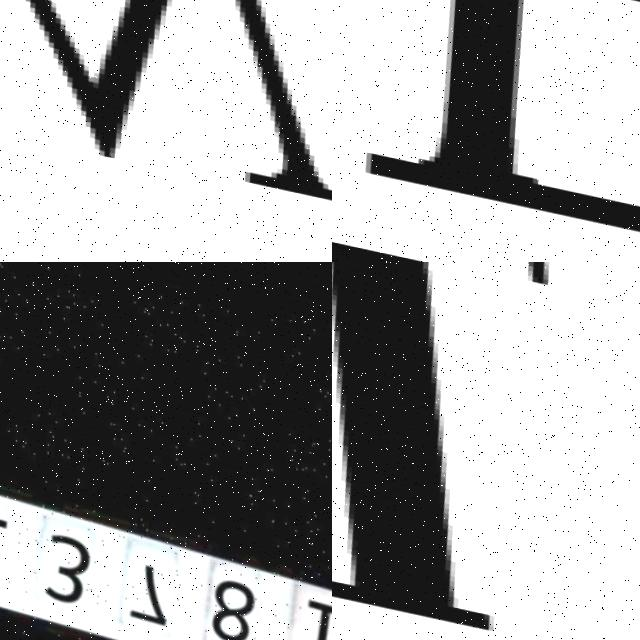1: (258, 576, 332, 640)
3: (3, 511, 105, 626)
7: (91, 540, 183, 640)
8: (170, 553, 269, 640)
F: (352, 0, 640, 231)
L: (332, 262, 609, 640)
W: (0, 0, 332, 226)
